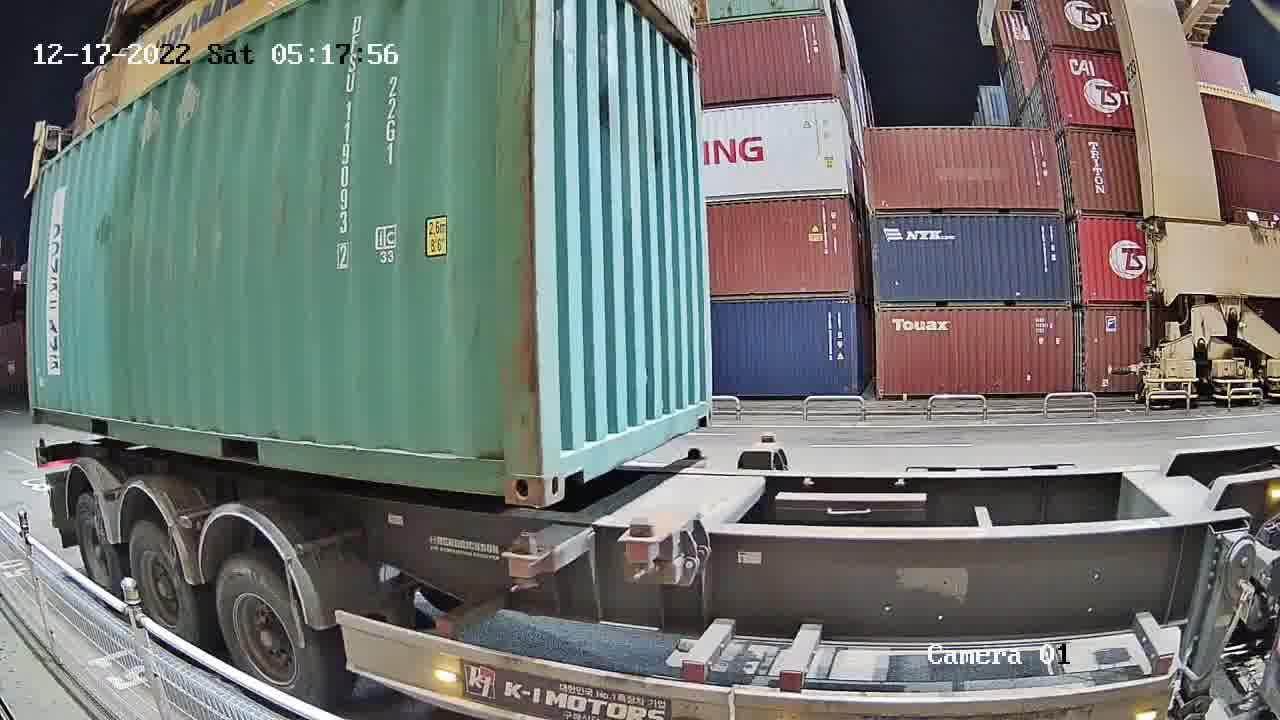Chassis: (510, 449, 713, 576)
Cone: (511, 570, 548, 599)
Container: (543, 380, 719, 510)
Hole_L: (540, 410, 581, 510)
Hole_R: (477, 413, 544, 507), (694, 380, 717, 432)
Tire: (212, 558, 325, 701), (126, 525, 201, 642), (72, 499, 123, 600)
